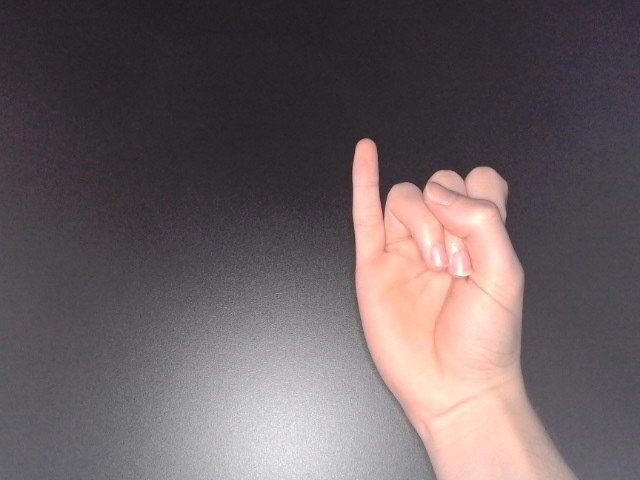i: (346, 135, 532, 456)
